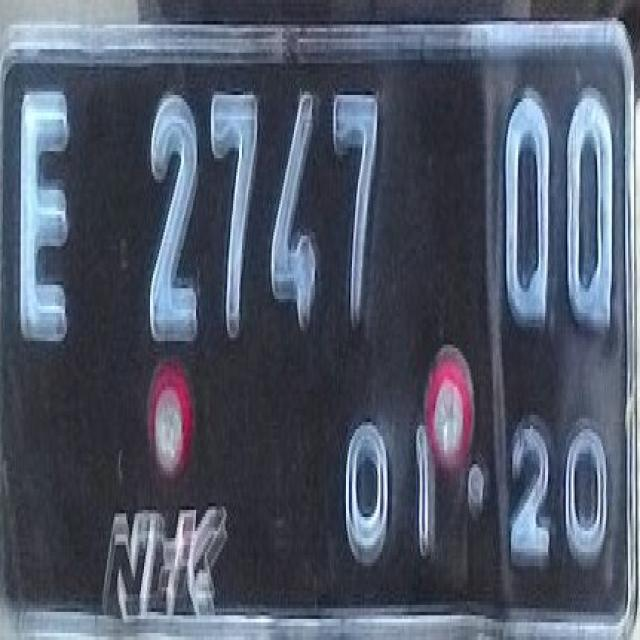plate: (0, 25, 634, 630)
